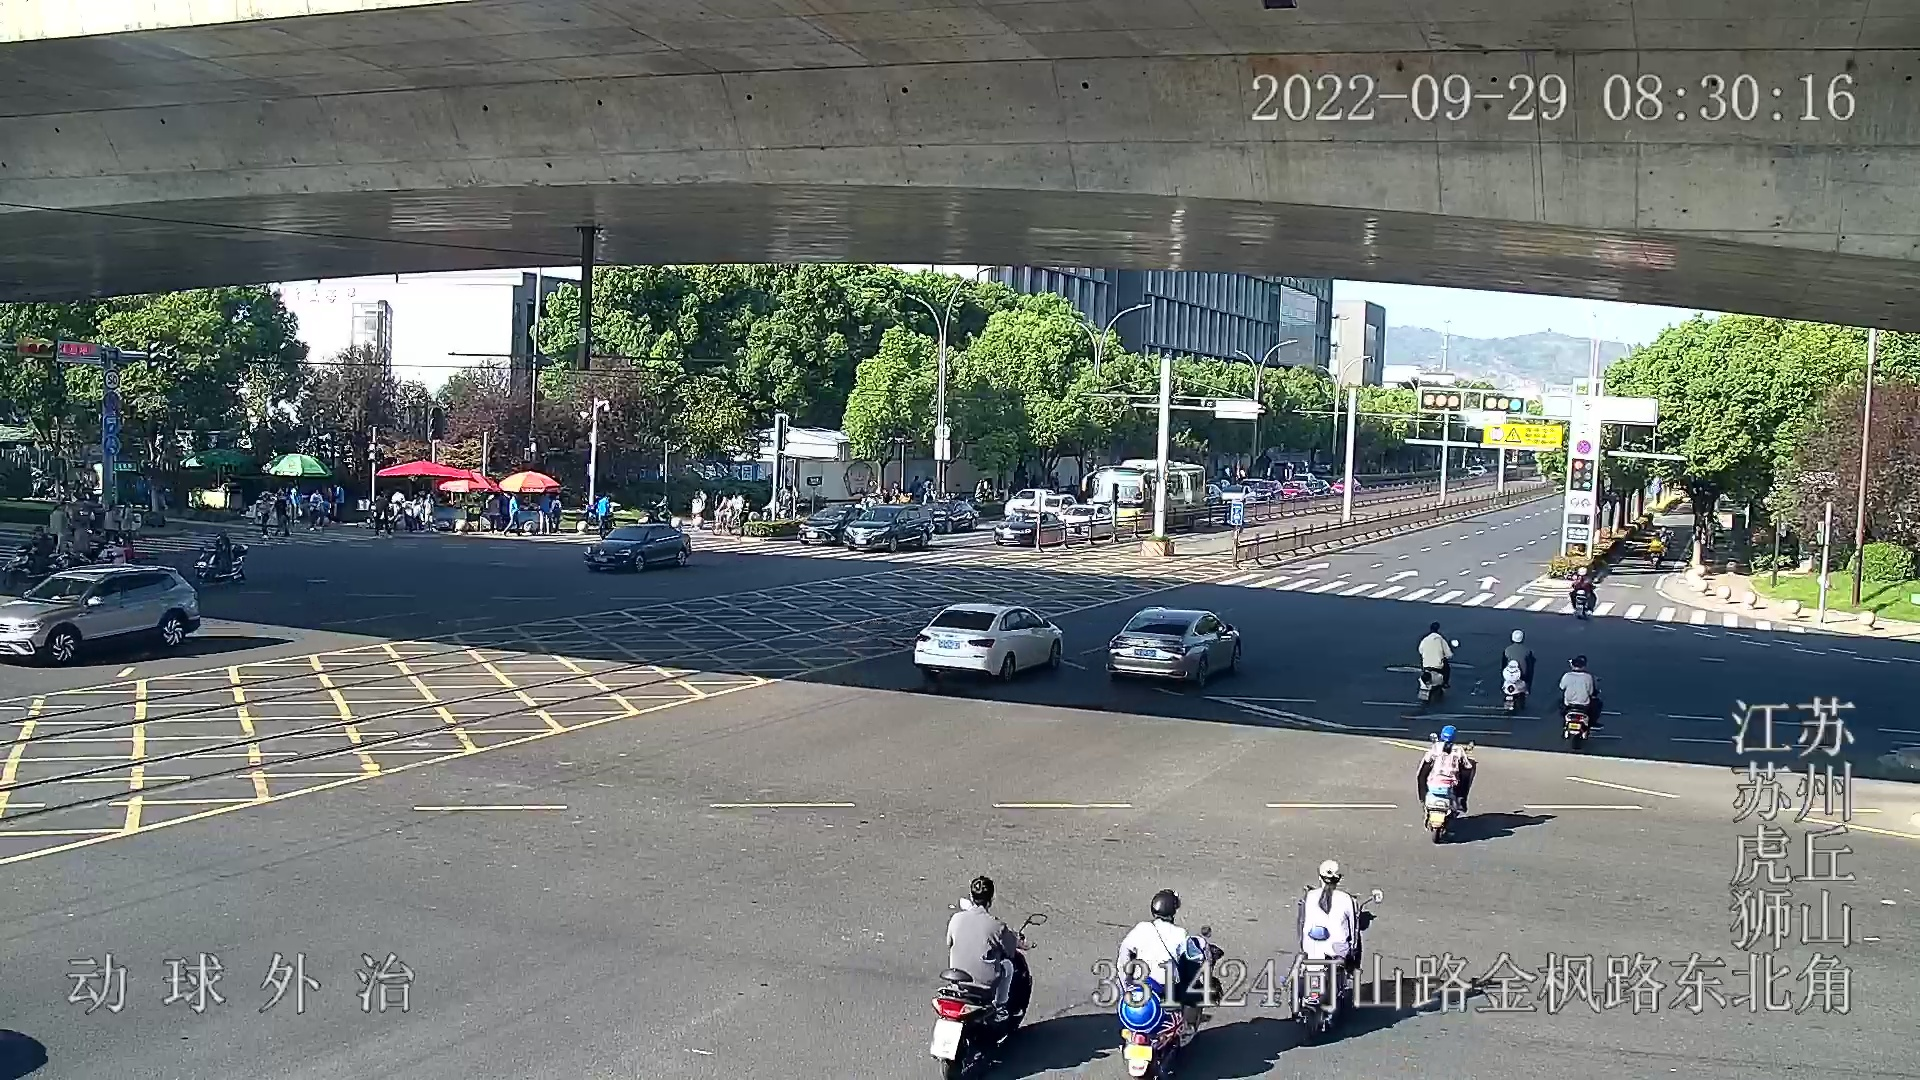头肩: (948, 873, 1000, 934), (1309, 858, 1357, 903), (1137, 887, 1180, 934), (1563, 658, 1592, 682), (1437, 725, 1462, 752), (1422, 621, 1447, 645), (1506, 630, 1528, 653), (1575, 567, 1590, 588), (215, 531, 229, 545)
机动车: (1, 563, 200, 665), (913, 597, 1065, 684), (1105, 605, 1241, 687), (1087, 456, 1208, 531), (585, 524, 691, 572), (845, 502, 934, 553), (796, 506, 862, 546), (994, 512, 1064, 547), (1062, 502, 1116, 539), (934, 497, 978, 533), (1004, 491, 1056, 517), (1220, 483, 1257, 508)
行人: (1124, 891, 1207, 1043), (945, 877, 1014, 1030), (1303, 860, 1360, 985), (1425, 725, 1469, 812), (1560, 657, 1604, 731), (1420, 622, 1457, 687), (1505, 630, 1534, 692), (1571, 567, 1594, 611), (211, 530, 233, 574)
非机动车: (927, 874, 1036, 1080), (1104, 886, 1218, 1076), (1290, 855, 1377, 1011), (1414, 723, 1476, 844), (1559, 654, 1604, 742), (1416, 620, 1458, 698), (1501, 629, 1538, 711), (196, 530, 249, 584), (1569, 564, 1596, 618)
